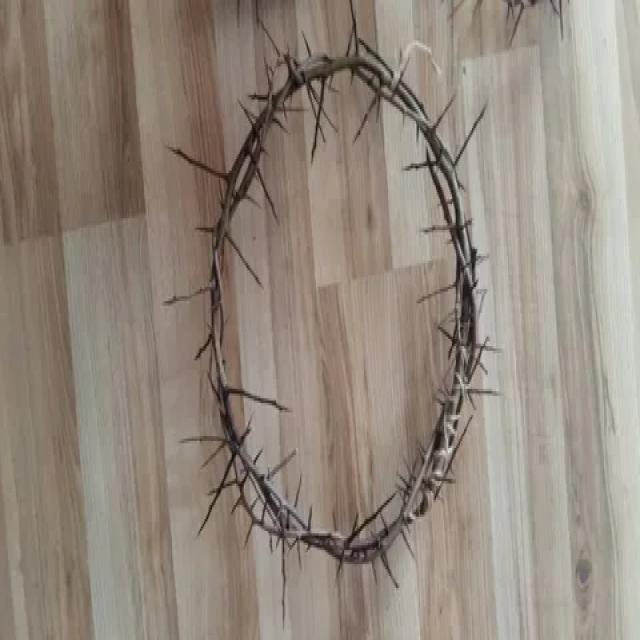crown: (191, 28, 488, 564)
